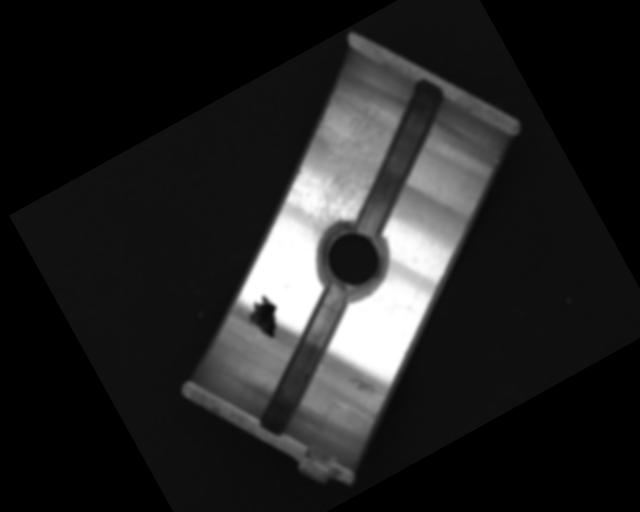blot: (241, 291, 291, 345)
bruise: (345, 367, 378, 401)
gap: (310, 76, 488, 242), (219, 284, 388, 442)
hole: (301, 207, 404, 310)
scratch: (256, 69, 431, 245)
